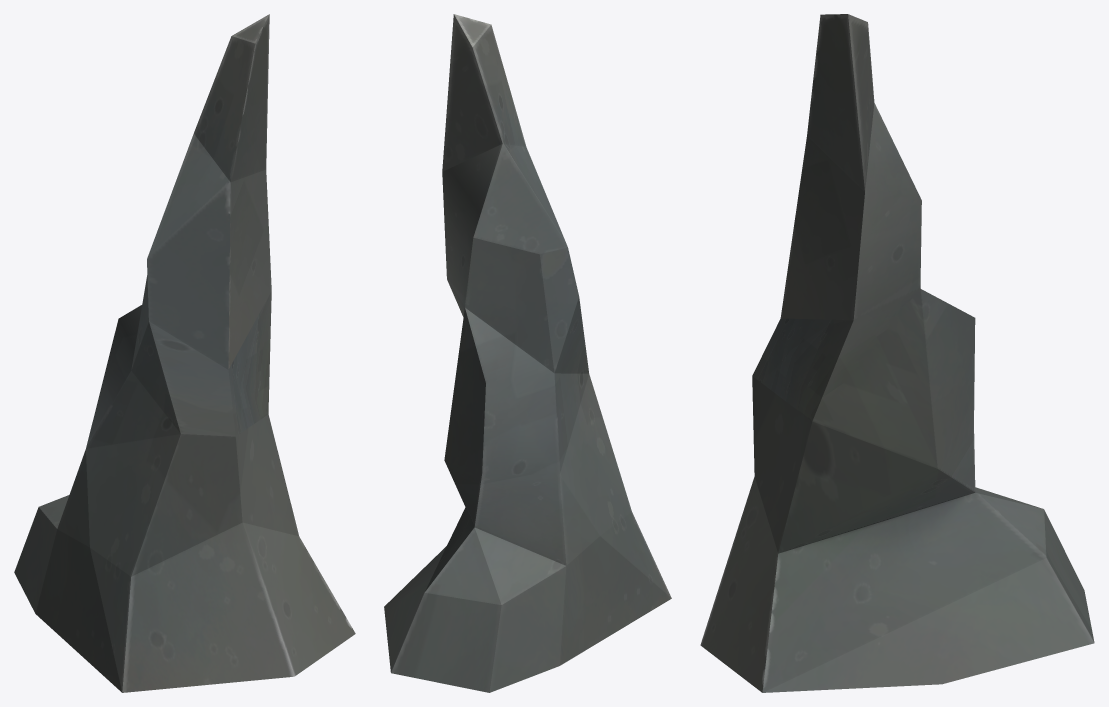
Rendered from SM_Cavern_Rocks.FBX.
3 views of the same model, side by side, from view 1: azimuth 30°, elevation 25°; view 2: azimuth 150°, elevation 25°; view 3: azimuth 270°, elevation 25° (orthographic). The views are drawn at different scales.
Visible parts, largest first — view 1: SM_Cavern_Rocks_01; view 2: SM_Cavern_Rocks_01; view 3: SM_Cavern_Rocks_01.
Part boxes in pixels (<box>): SM_Cavern_Rocks_01: <box>14,14,355,692</box>; SM_Cavern_Rocks_01: <box>384,14,671,692</box>; SM_Cavern_Rocks_01: <box>700,14,1094,692</box>.
Size of the model in its own units: 129 by 172 by 315.
